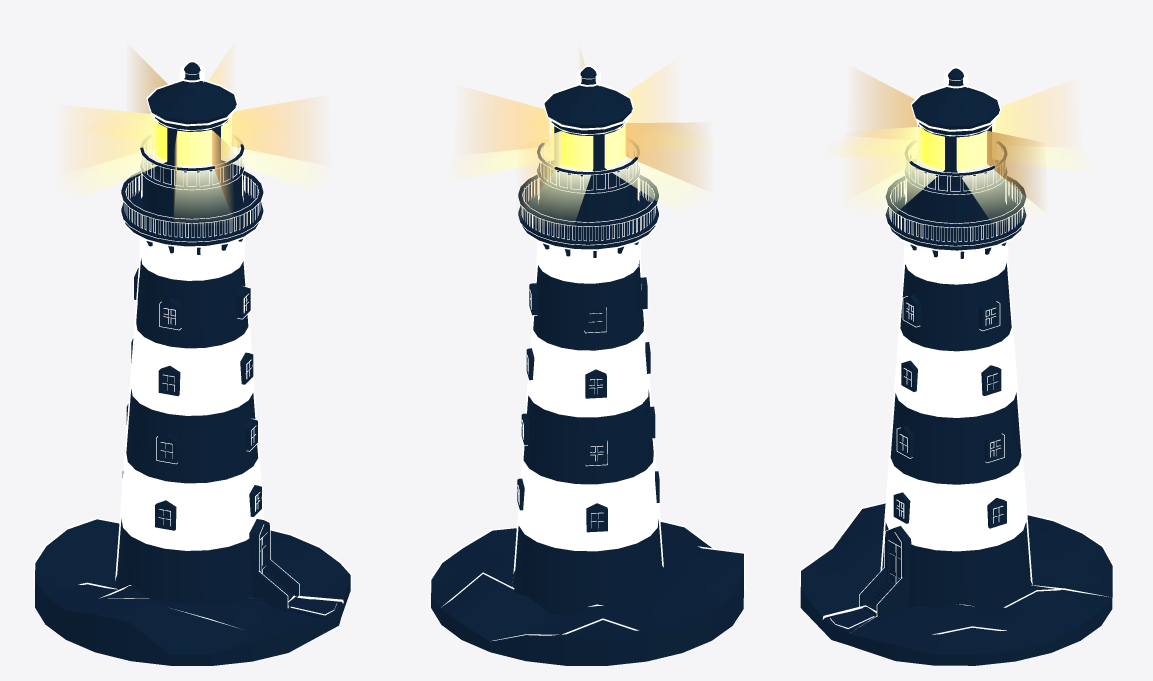
The model's file is lighthouse.glb.
3 views of the same model, side by side, from view 1: azimuth 30°, elevation 25°; view 2: azimuth 150°, elevation 25°; view 3: azimuth 270°, elevation 25° (orthographic).
Visible parts, largest first — view 1: Base, Flares, Railing, Windows, Base.001, Railing.001, StairsAndDoors, Windows.001; view 2: Base, Flares, Railing, Windows, Base.001, Railing.001, Windows.001; view 3: Base, Flares, Railing, Base.001, Windows, StairsAndDoors, Railing.001, Windows.001.
Part boxes in pixels (x1,y1,x2,y2): Base: (35,62,350,665); Flares: (67,48,320,218); Railing: (121,144,263,254); Windows: (122,268,261,530); Base.001: (33,60,352,628); Railing.001: (120,144,263,255); StairsAndDoors: (249,519,299,612); Windows.001: (122,267,262,531); Base: (431,67,743,665); Flares: (460,50,709,220); Railing: (518,143,658,257); Windows: (517,277,659,532); Base.001: (429,65,745,641); Railing.001: (517,143,659,258); Windows.001: (517,276,660,532); Base: (800,68,1112,665); Flares: (834,71,1083,219); Railing: (885,142,1026,258); Base.001: (799,67,1114,634); Windows: (893,294,1006,528); StairsAndDoors: (859,526,911,620); Railing.001: (885,141,1026,259); Windows.001: (893,296,1007,529).
Size of what is drawn, in the model's own units: 30.6 by 50.65 by 30.72.
4 materials, 1 textured.
